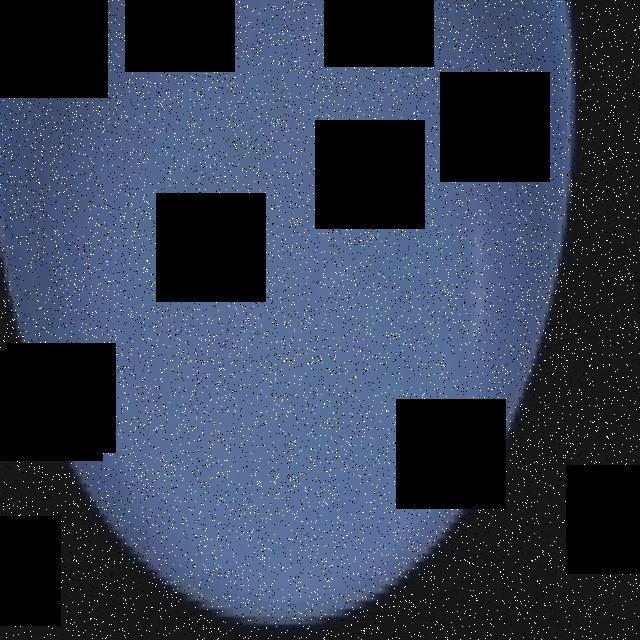Neptune: (0, 0, 571, 632)
